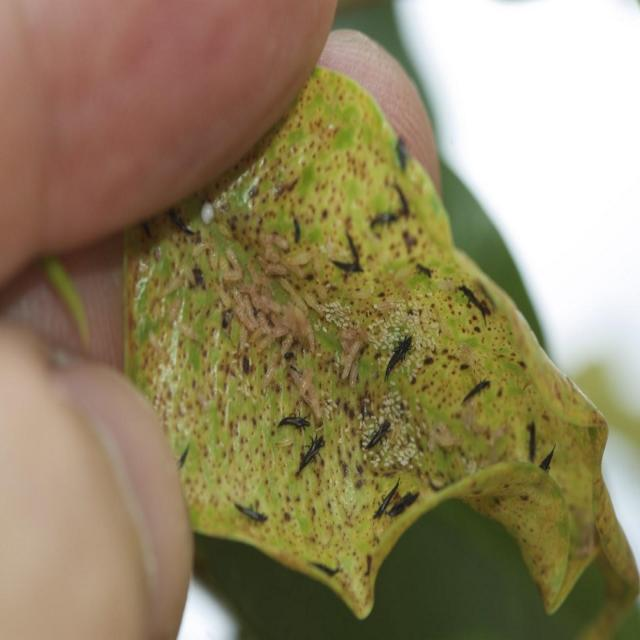Thrip-Adult-: (457, 279, 492, 331), (383, 328, 416, 383), (372, 470, 406, 520), (231, 493, 272, 529), (297, 429, 326, 476), (459, 371, 495, 408), (273, 407, 311, 435), (364, 418, 392, 453)
Thrip-Group-: (154, 142, 517, 534)
Thrip-Larva-: (374, 297, 400, 311), (279, 277, 298, 296)
